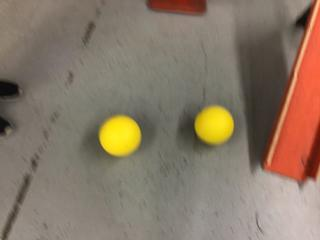power_cell: (96, 114, 144, 159), (191, 101, 236, 146)
